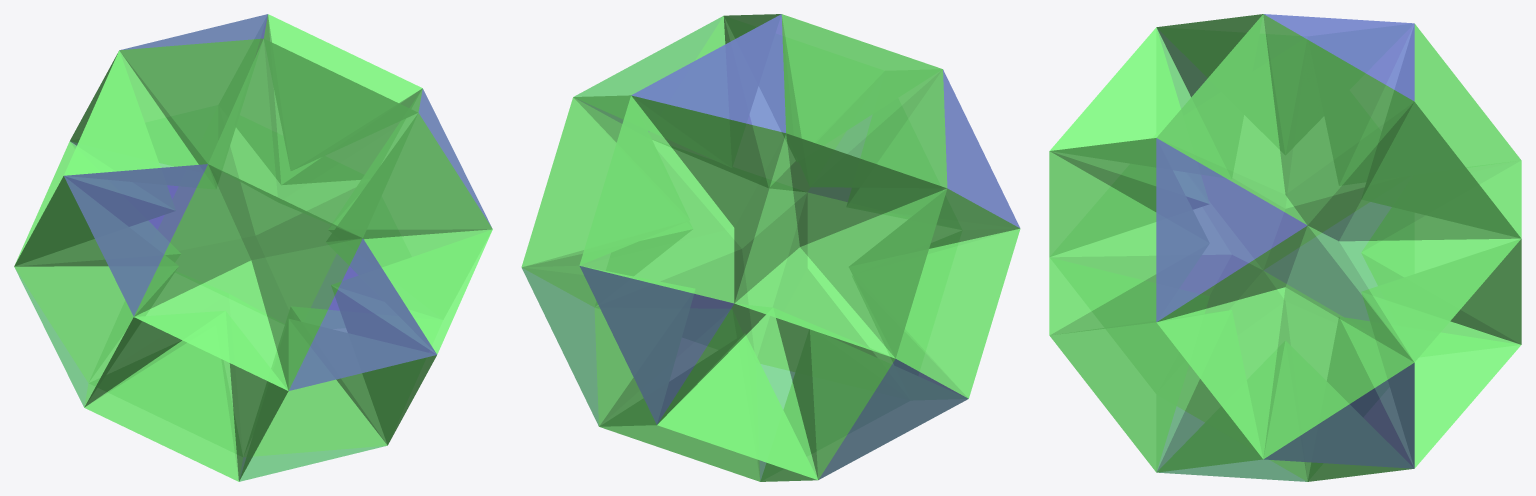
The model's file is 12_RhombicuboctahedronExcaveted.obj.
3 views of the same model, side by side, from view 1: azimuth 30°, elevation 25°; view 2: azimuth 150°, elevation 25°; view 3: azimuth 270°, elevation 25° (orthographic). The views are drawn at different scales.
Size of the model in its own units: 2.41 by 2.79 by 2.55.
